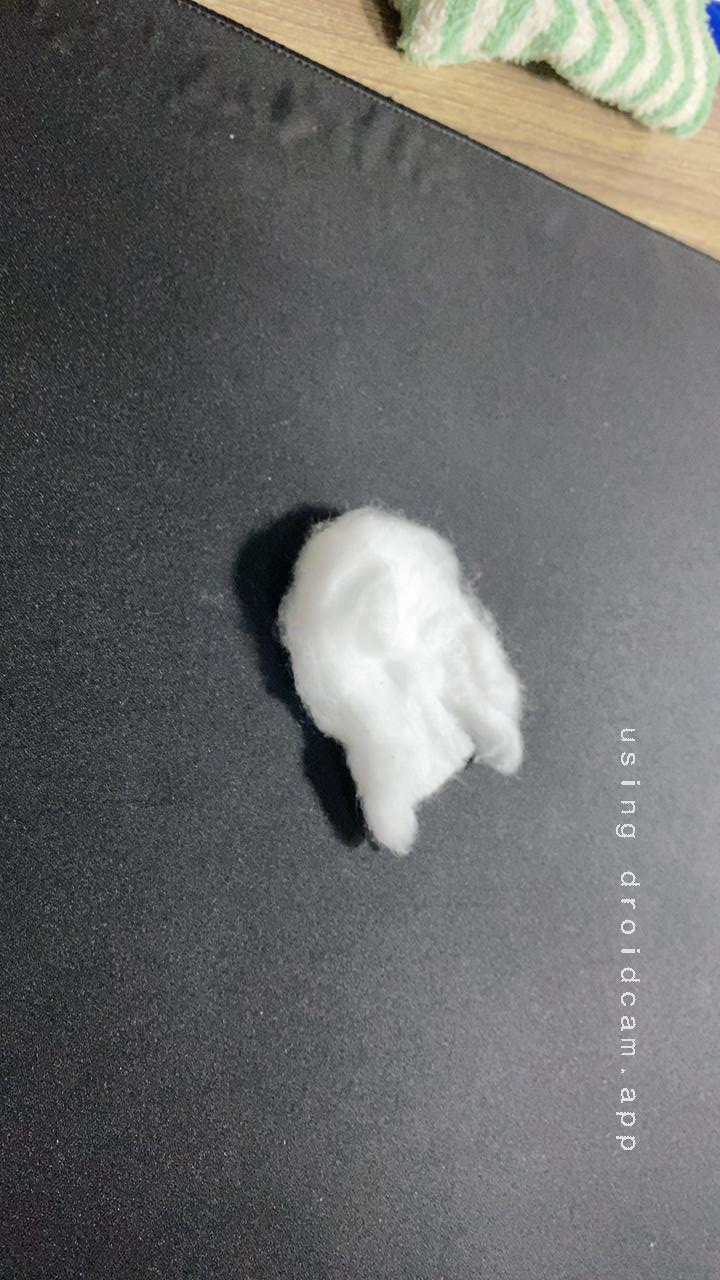cotton: (226, 483, 562, 876)
